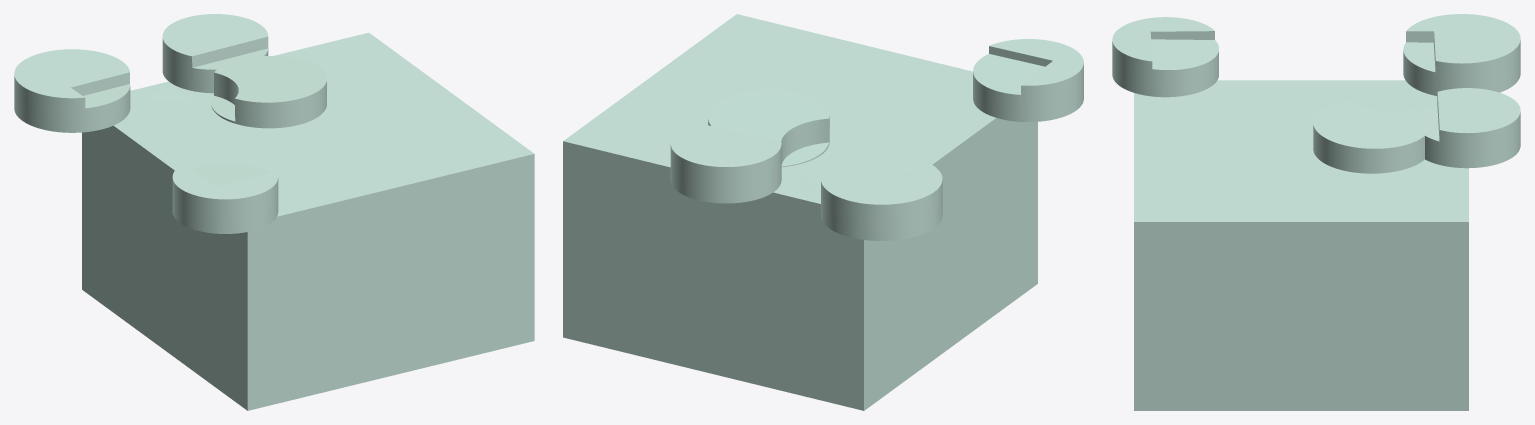
3 renders of one model, left to right at view 1: azimuth 30°, elevation 25°; view 2: azimuth 150°, elevation 25°; view 3: azimuth 270°, elevation 25°, orthographic. The views are drawn at different scales.
Parts seen in each view (by area): view 1: Renderer Node; view 2: Renderer Node; view 3: Renderer Node.
Part boxes in pixels (left/top/right/bottom): Renderer Node: left=14, top=14, right=534, bottom=410; Renderer Node: left=563, top=14, right=1083, bottom=410; Renderer Node: left=1112, top=14, right=1520, bottom=410.
Bounding box in the file's own units: 1.24 × 0.7578 × 1.24.
